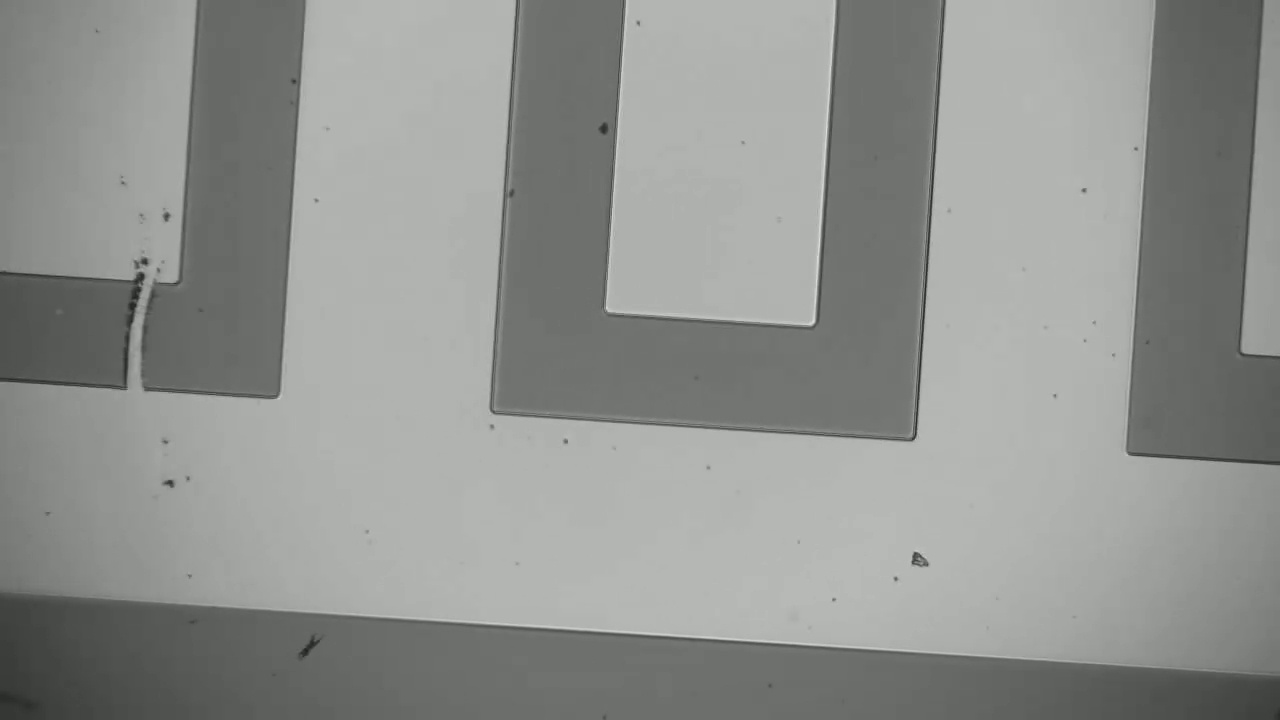Short_circuit: (108, 251, 175, 414)
